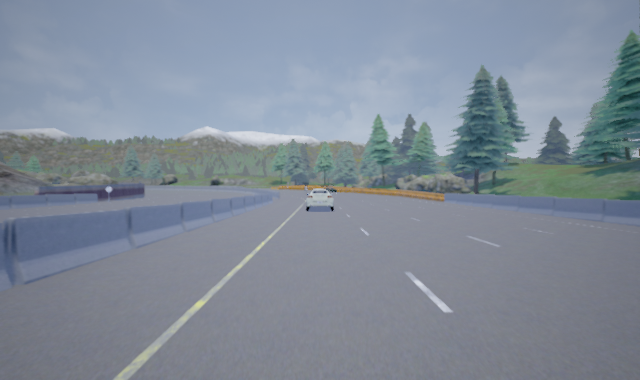vehicle: (305, 188, 334, 211)
